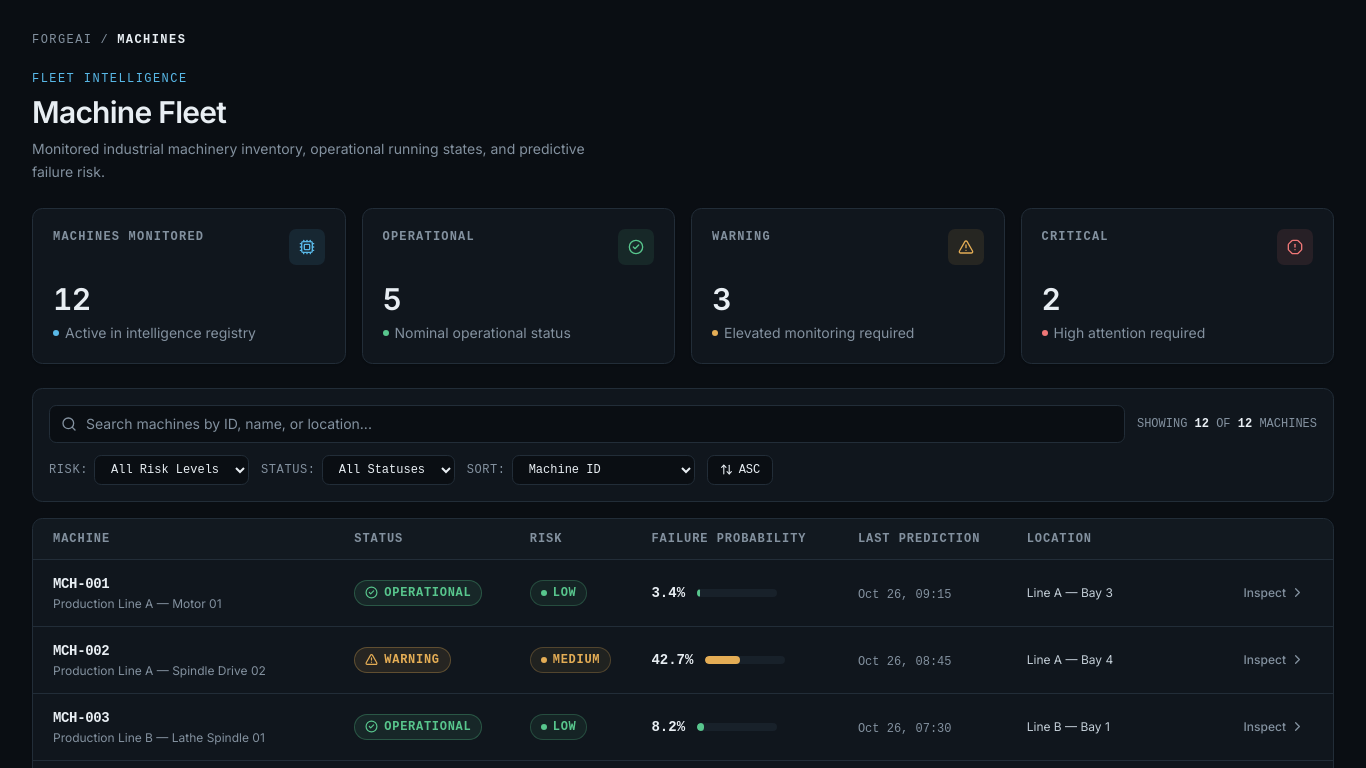
Scenario: Machine Fleet Experience (Part 8) › supports combining status and risk filters simultaneously
The width and height of the screenshot is (1366, 768).
Select "Warning" in the dropdown named "Filter machines by operational status" at (388,470), box [322, 454, 455, 484]
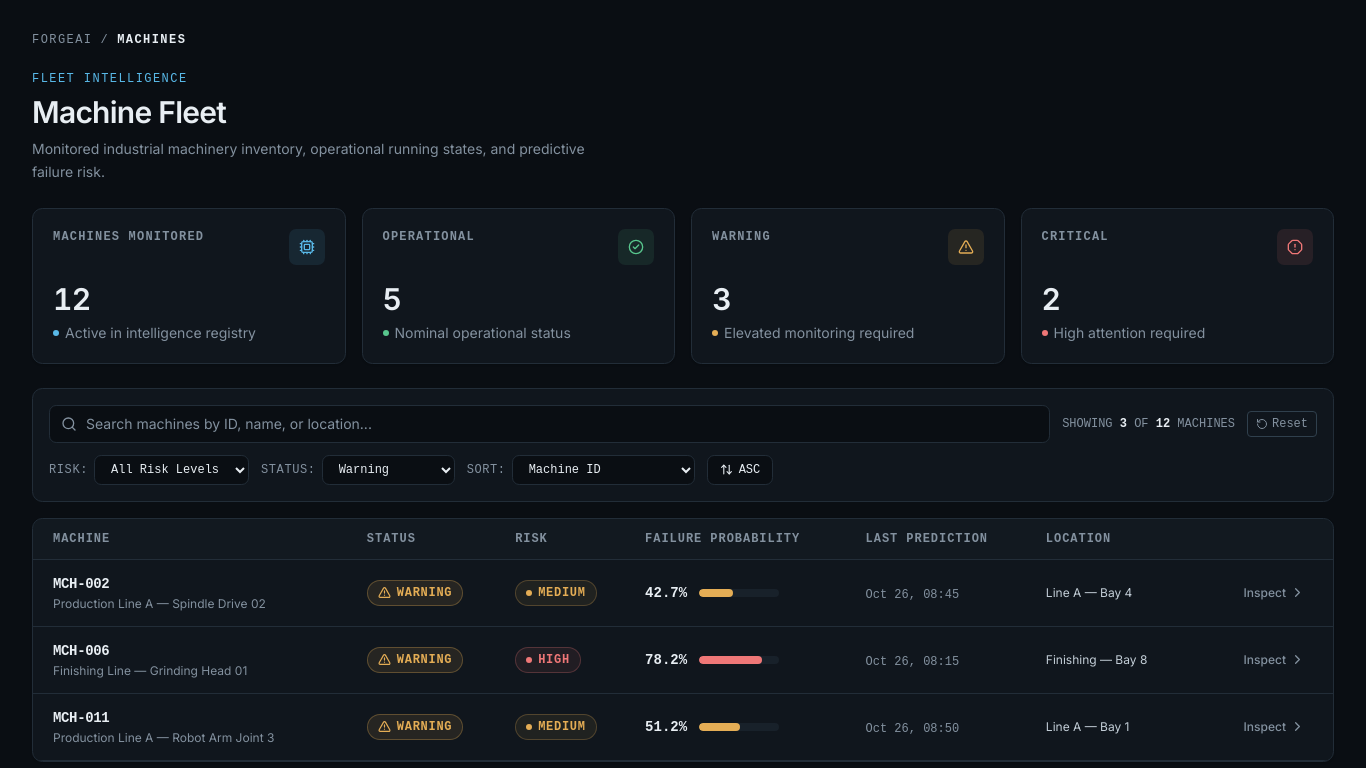
Select "High Risk" in the dropdown named "Filter machines by risk level" at (172,470), box [94, 454, 249, 484]
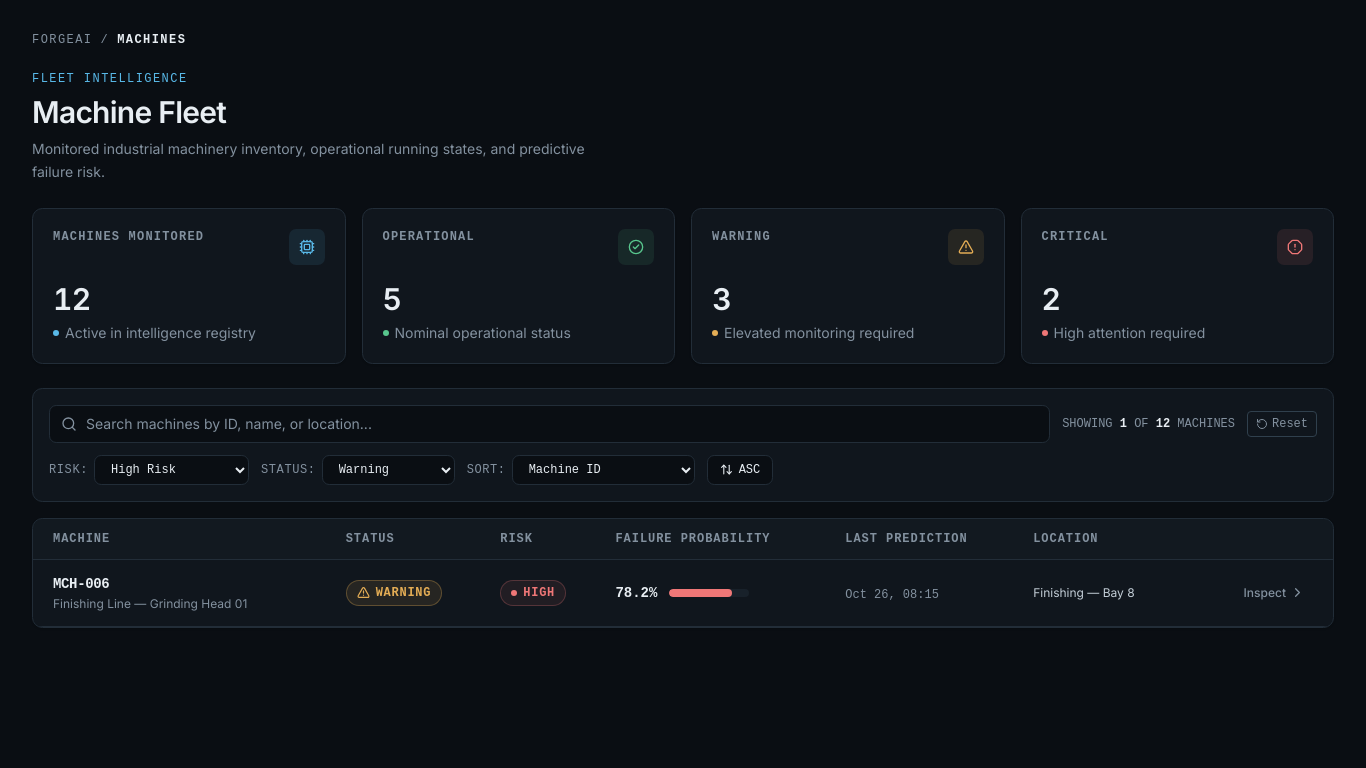
Expected: the text "MCH-006" is shown, [53, 576, 109, 592]
Expected: the text "MCH-002" is gone
